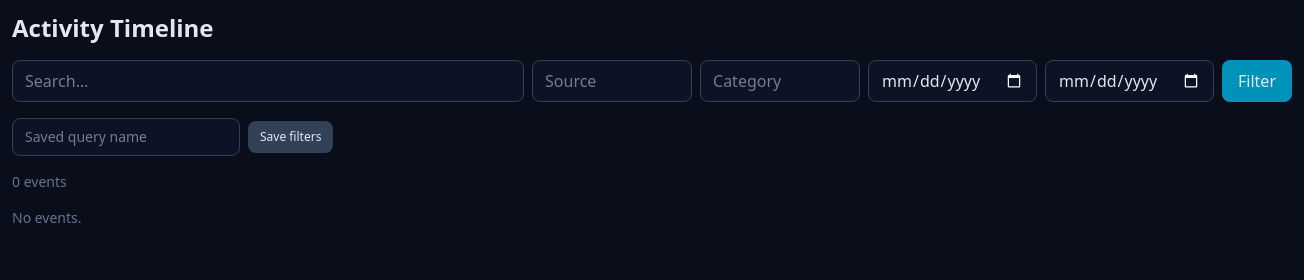
TimelinePage filter state › shows a search chip and clears search
Type "login" into the field with placeholder "Search…".
click(268, 81); type("login")  # box [12, 60, 524, 102]
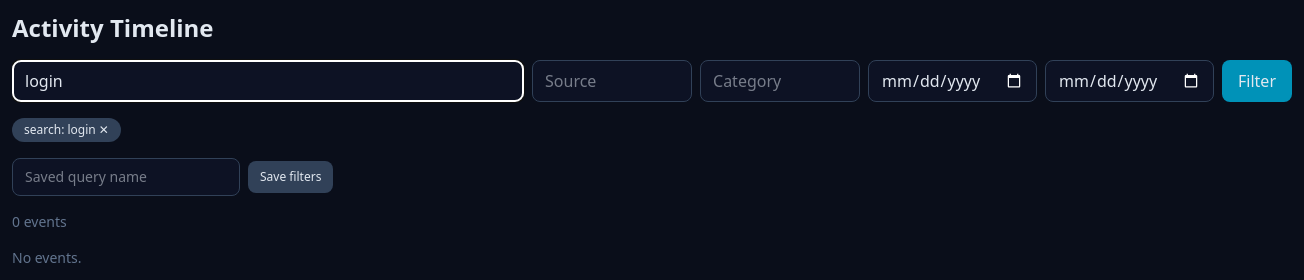
Now the button "search: login ✕" is shown
Click the button "search: login ✕".
click(66, 130)  # box [12, 118, 121, 142]
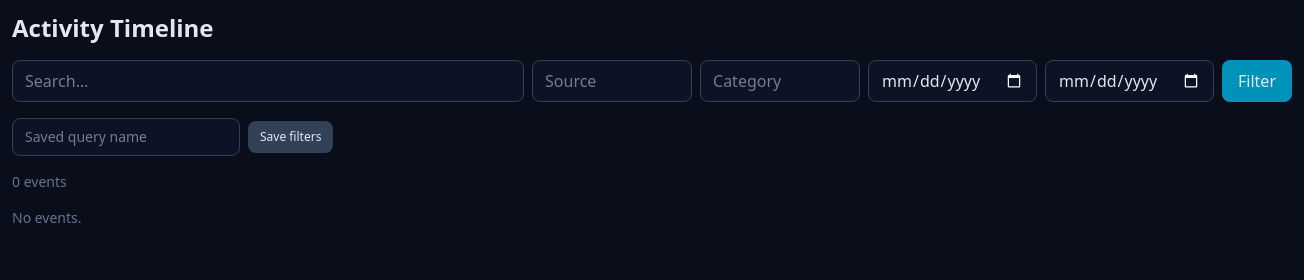
Now the button "search: login ✕" is gone
